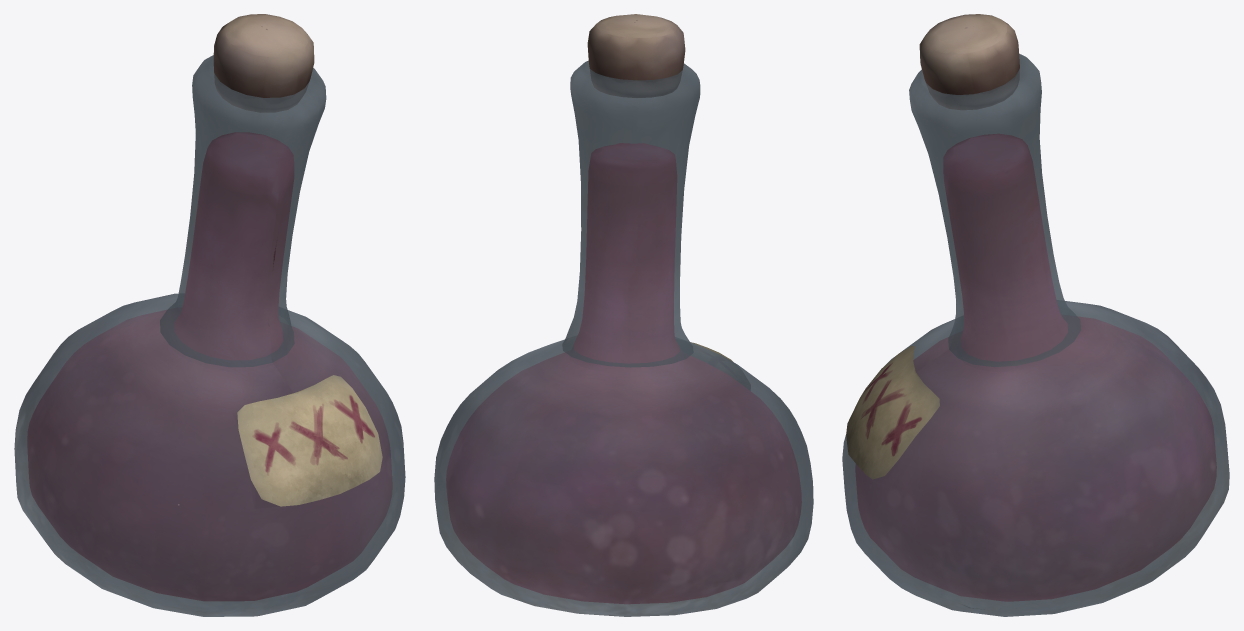
Rendered from 3december_-_03_chemistry.glb.
3 renders of one model, left to right at view 1: azimuth 30°, elevation 25°; view 2: azimuth 150°, elevation 25°; view 3: azimuth 270°, elevation 25°, orthographic. The views are drawn at different scales.
Parts seen in each view (by area): view 1: Verre.001, Liquide, Verre.002, Verre.000; view 2: Verre.001, Liquide, Verre.000; view 3: Verre.001, Liquide, Verre.000, Verre.002.
Boxes of the visible parts, x1=… form: Verre.001: x1=14, y1=55, x2=405, y2=616; Liquide: x1=27, y1=132, x2=392, y2=600; Verre.002: x1=237, y1=375, x2=382, y2=506; Verre.000: x1=213, y1=14, x2=314, y2=112; Verre.001: x1=434, y1=60, x2=813, y2=616; Liquide: x1=446, y1=143, x2=801, y2=603; Verre.000: x1=587, y1=14, x2=685, y2=97; Verre.001: x1=842, y1=54, x2=1229, y2=616; Liquide: x1=855, y1=134, x2=1216, y2=601; Verre.000: x1=919, y1=14, x2=1019, y2=109; Verre.002: x1=846, y1=346, x2=939, y2=479.
Bounding box in the file's own units: 46.74 × 73.11 × 46.38.
Materials: 4 (4 with a texture image).
